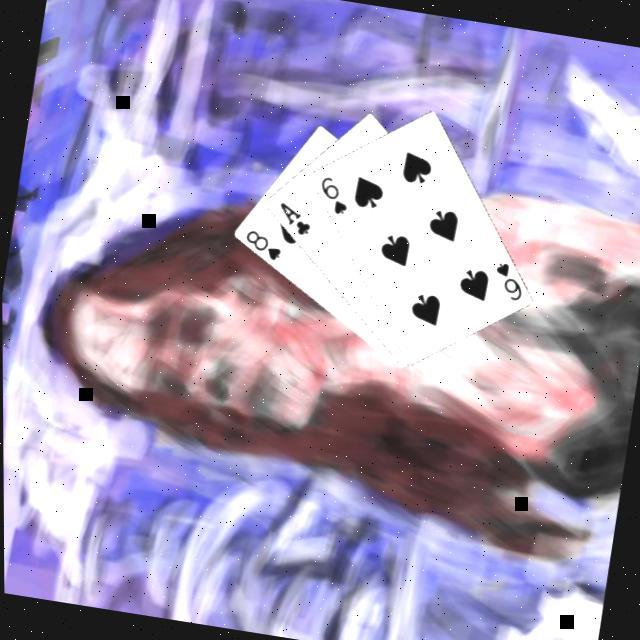6S: (485, 258, 527, 306), (311, 173, 353, 220)
8S: (237, 226, 285, 266)
AC: (270, 199, 315, 241)
